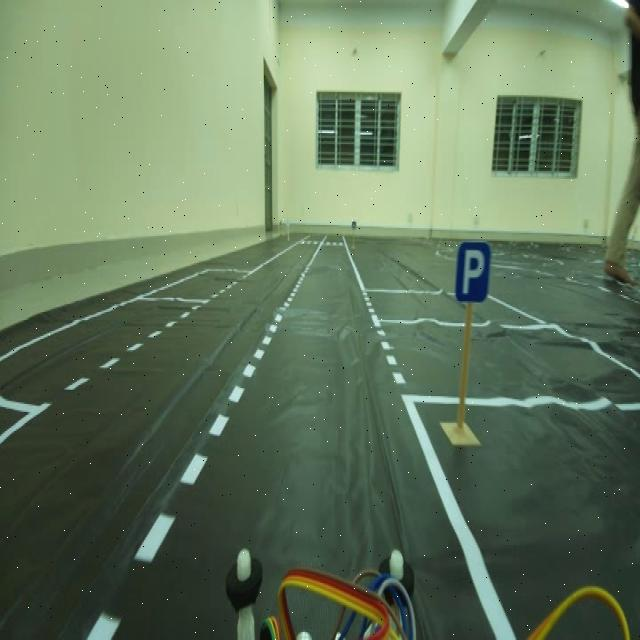parking: (452, 236, 495, 314)
